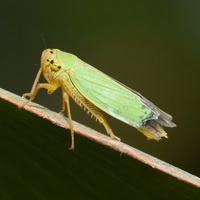insect: (22, 49, 175, 149)
